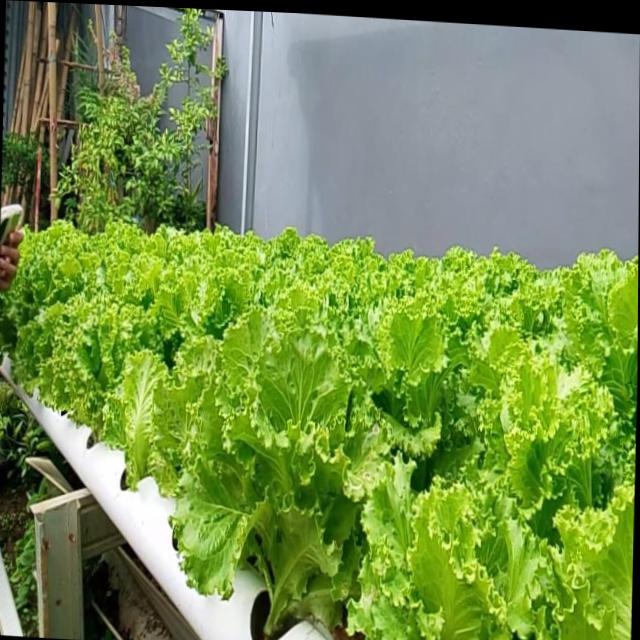Mature: (0, 210, 638, 640), (156, 314, 375, 640), (35, 288, 142, 453)
